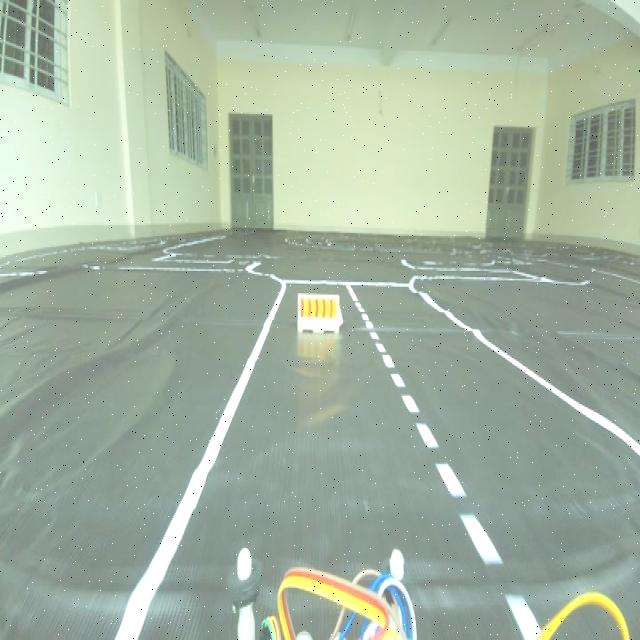roadblock: (293, 287, 345, 342)
